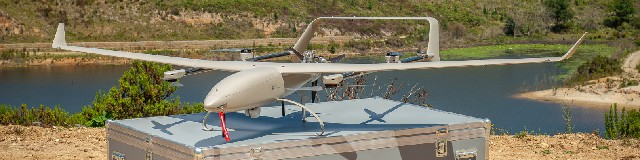maybay_khongnguoilai: (52, 16, 589, 129)
